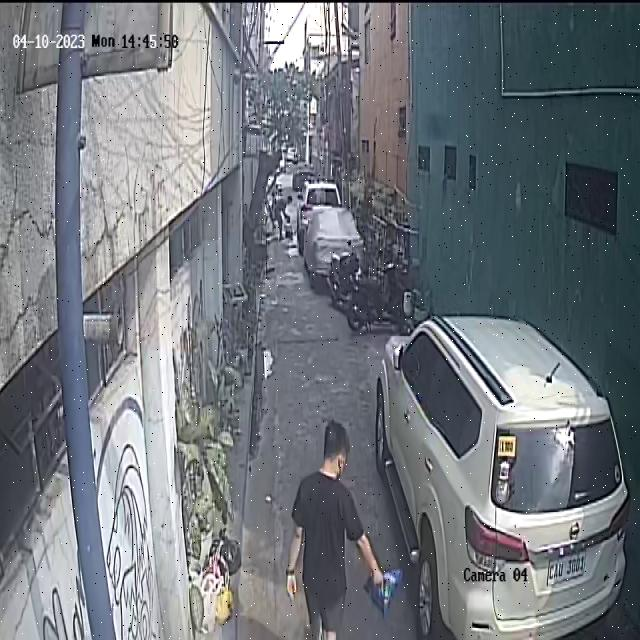garbage_dumping: (364, 565, 402, 613)
